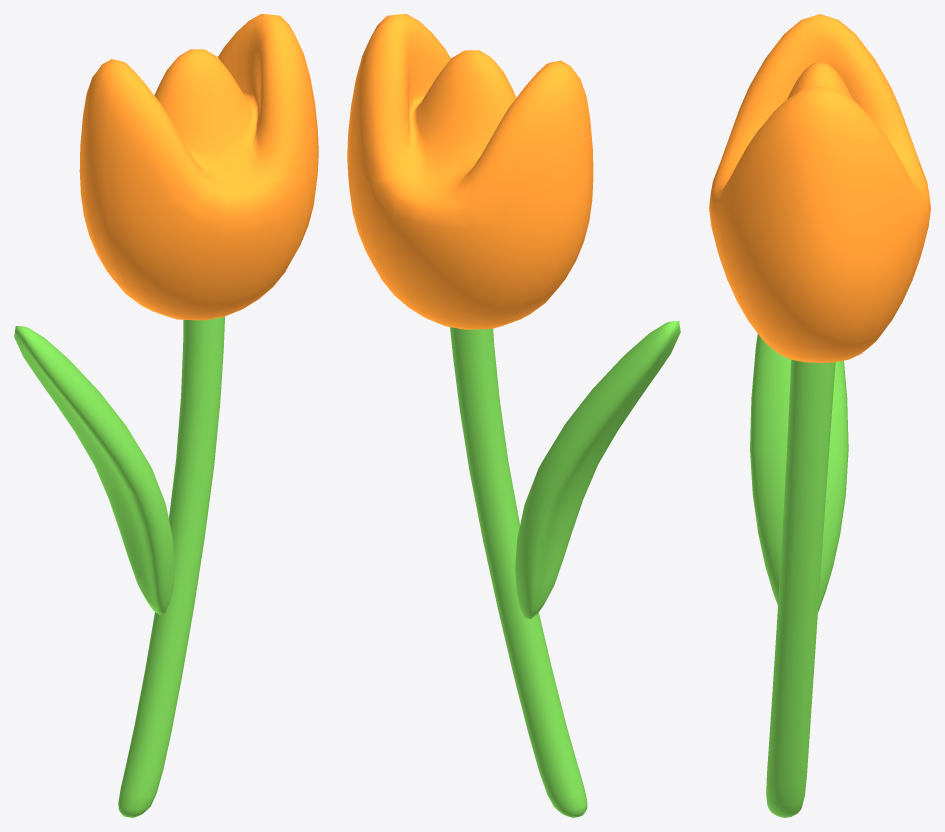
The model's file is Tulip.glb.
3 views of the same model, side by side, from view 1: azimuth 30°, elevation 25°; view 2: azimuth 150°, elevation 25°; view 3: azimuth 270°, elevation 25° (orthographic). The views are drawn at different scales.
Visible parts, largest first — view 1: Cube 3, Cube 4, Cube 5; view 2: Cube 3, Cube 4, Cube 5; view 3: Cube 3, Cube 4, Cube 5.
Part boxes in pixels (x1=…): Cube 3: x1=79, y1=14, x2=318, y2=320; Cube 4: x1=118, y1=316, x2=224, y2=817; Cube 5: x1=14, y1=326, x2=174, y2=614; Cube 3: x1=347, y1=14, x2=593, y2=329; Cube 4: x1=450, y1=327, x2=587, y2=817; Cube 5: x1=515, y1=321, x2=680, y2=618; Cube 3: x1=709, y1=14, x2=930, y2=362; Cube 4: x1=766, y1=359, x2=835, y2=817; Cube 5: x1=750, y1=334, x2=848, y2=611.
Size of the model in its own units: 0.2532 by 0.6006 by 0.1487.
